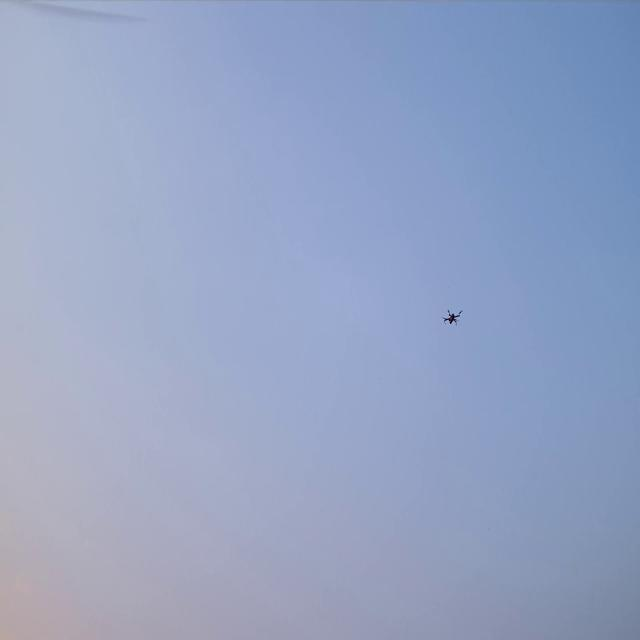UAV: (441, 307, 464, 327)
